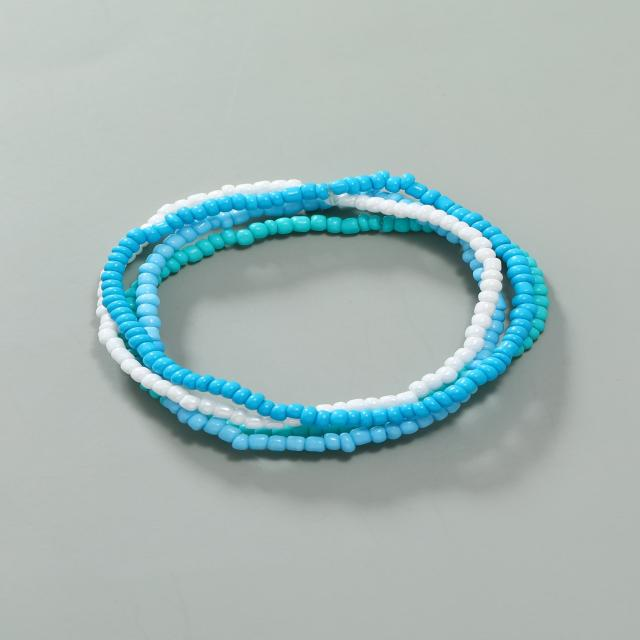bracelet: (43, 104, 613, 516)
